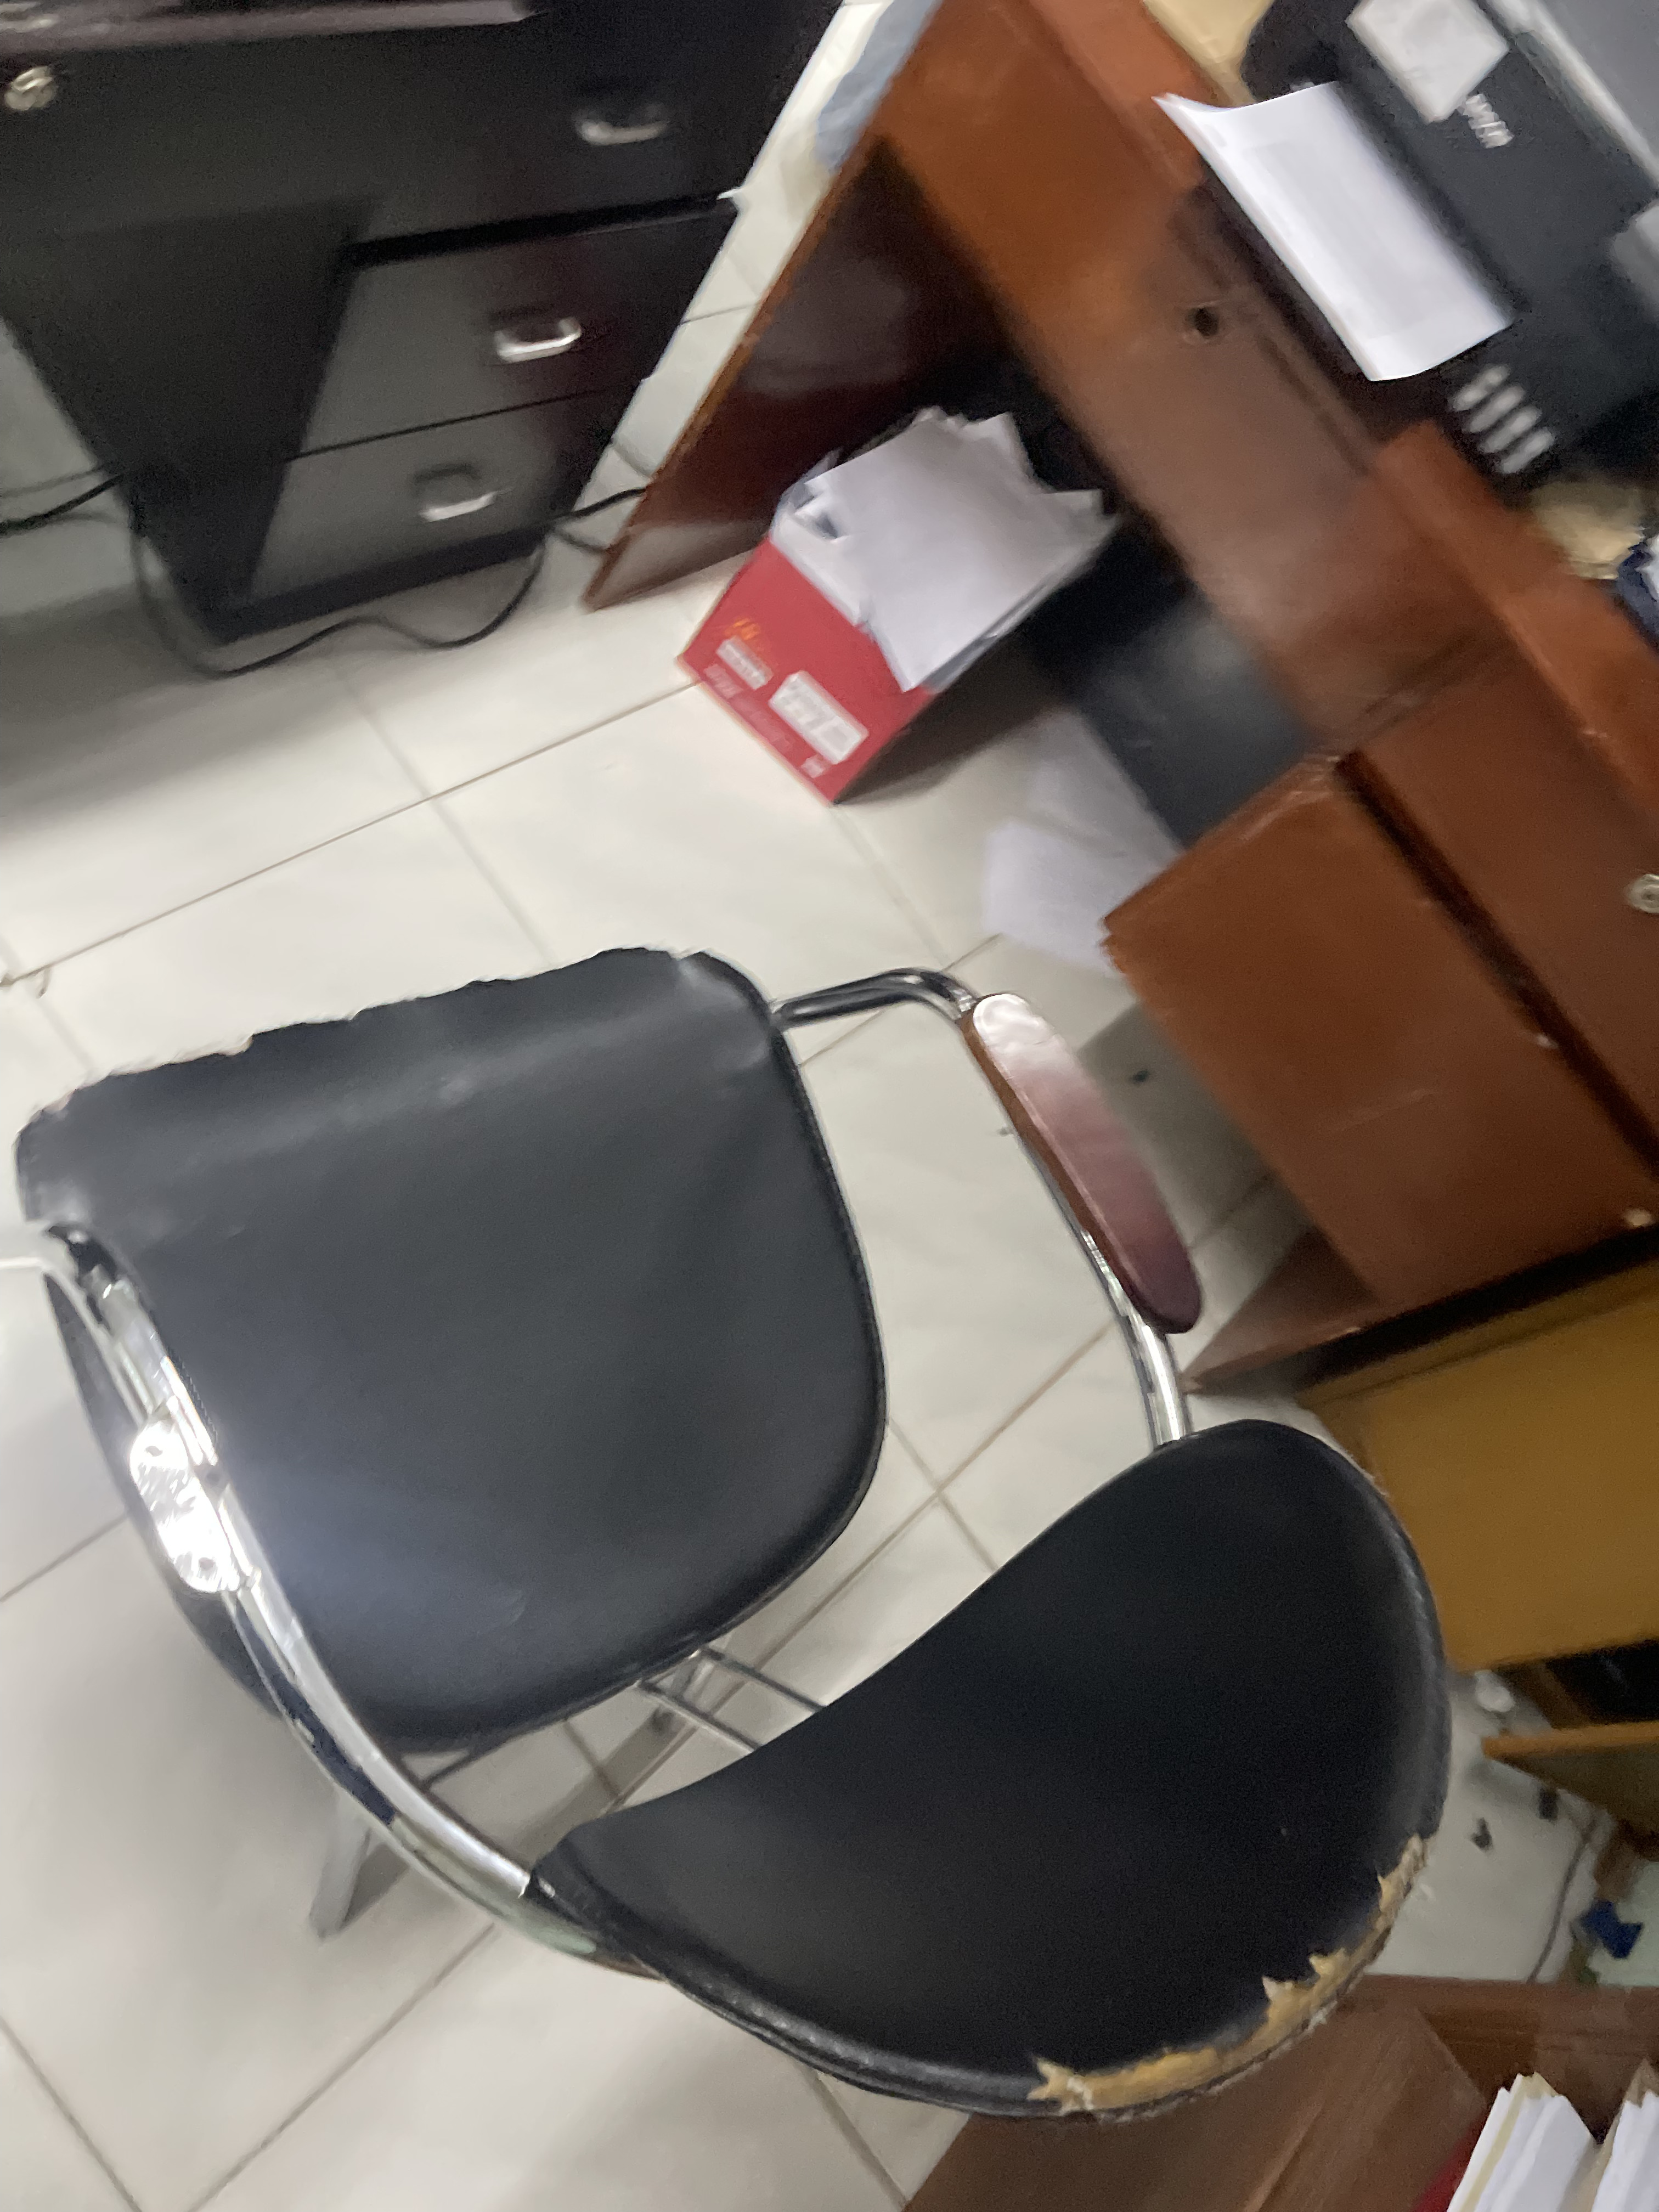chair1: (17, 939, 1450, 2114)
